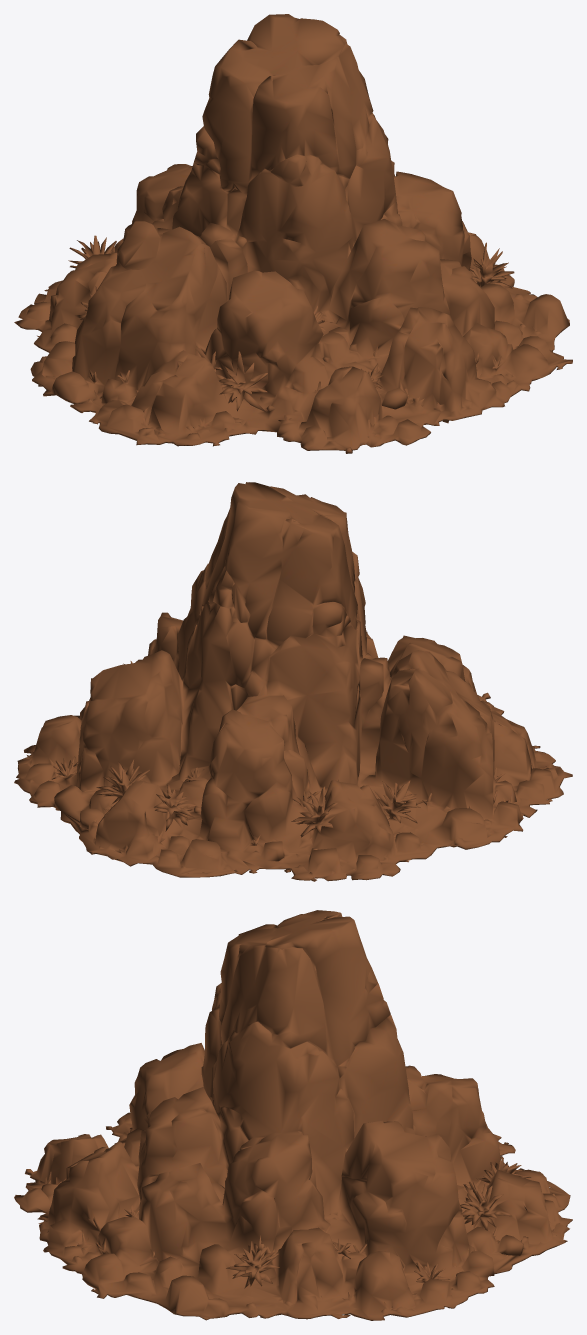
The model's file is afloramiento_rocoso.glb.
3 views of the same model, one above another, from view 1: azimuth 30°, elevation 25°; view 2: azimuth 150°, elevation 25°; view 3: azimuth 270°, elevation 25° (orthographic). The views are drawn at different scales.
Visible parts, largest first — view 1: afloramiento_rocoso; view 2: afloramiento_rocoso; view 3: afloramiento_rocoso.
Part boxes in pixels (<box>): afloramiento_rocoso: <box>14,14,572,453</box>; afloramiento_rocoso: <box>14,482,572,881</box>; afloramiento_rocoso: <box>14,910,572,1320</box>.
Size of what is drawn, in the model's own units: 5.03 by 3 by 5.14.
Materials: 1 (1 with a texture image).
